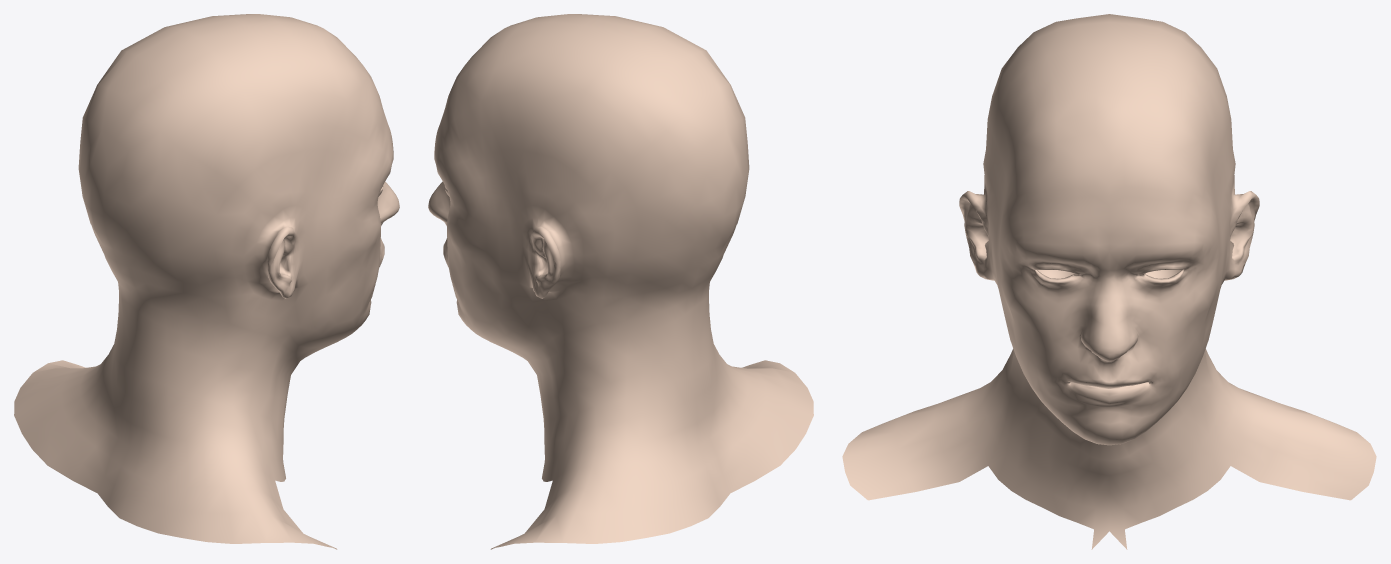
File: human_head.dae
3 renders of one model, left to right at view 1: azimuth 30°, elevation 25°; view 2: azimuth 150°, elevation 25°; view 3: azimuth 270°, elevation 25°, orthographic. The views are drawn at different scales.
Visible parts, largest first — view 1: frank_skeleton-base; view 2: frank_skeleton-base; view 3: frank_skeleton-base.
Boxes of the visible parts, x1=… form: frank_skeleton-base: x1=14, y1=14, x2=399, y2=549; frank_skeleton-base: x1=428, y1=14, x2=813, y2=549; frank_skeleton-base: x1=842, y1=14, x2=1376, y2=549.
Bounding box in the file's own units: 0.2323 × 0.3215 × 0.3236.
